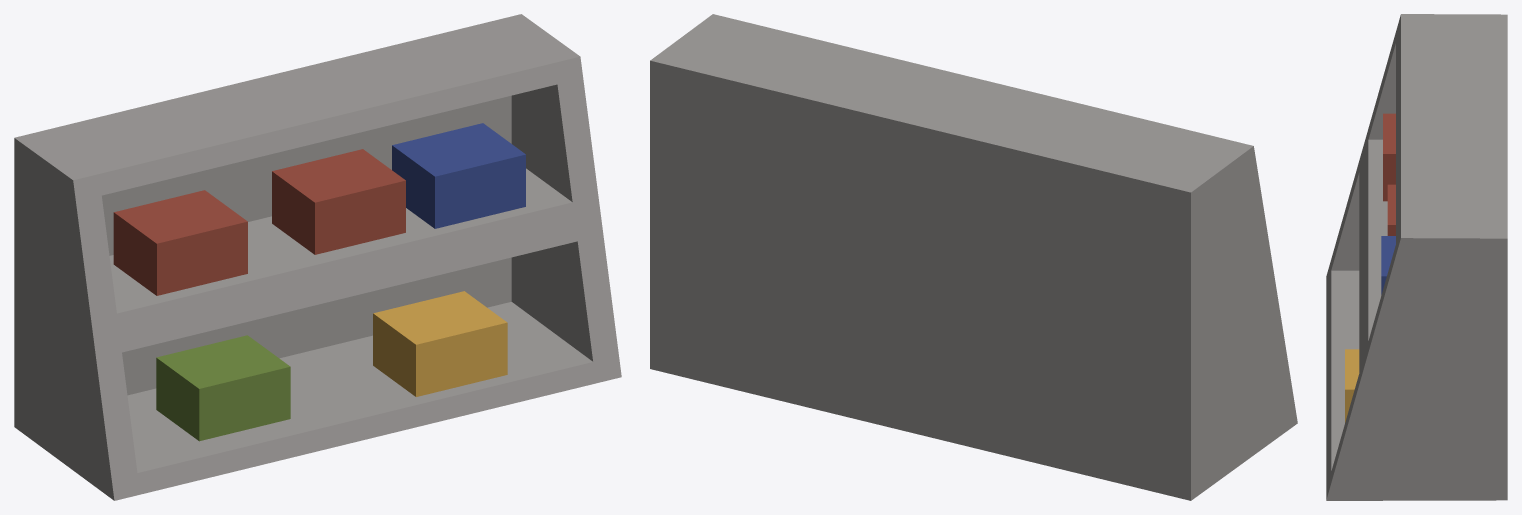
The model's file is SM_Prop_ShopInterior_Shelf_04.glb.
The picture shows the model from 3 angles, left to right: view 1: azimuth 30°, elevation 25°; view 2: azimuth 150°, elevation 25°; view 3: azimuth 270°, elevation 25°; orthographic projection. The views are drawn at different scales.
Visible parts, largest first — view 1: SM_Prop_ShopInterior_Shelf_04; view 2: SM_Prop_ShopInterior_Shelf_04; view 3: SM_Prop_ShopInterior_Shelf_04.
Boxes of the visible parts, x1,y1,x2,y2 form: SM_Prop_ShopInterior_Shelf_04: [14, 14, 621, 500]; SM_Prop_ShopInterior_Shelf_04: [650, 14, 1297, 500]; SM_Prop_ShopInterior_Shelf_04: [1326, 14, 1507, 500].
Bounding box in the file's own units: 0.0122 × 0.00667 × 0.00417.
1 material, 1 textured.
